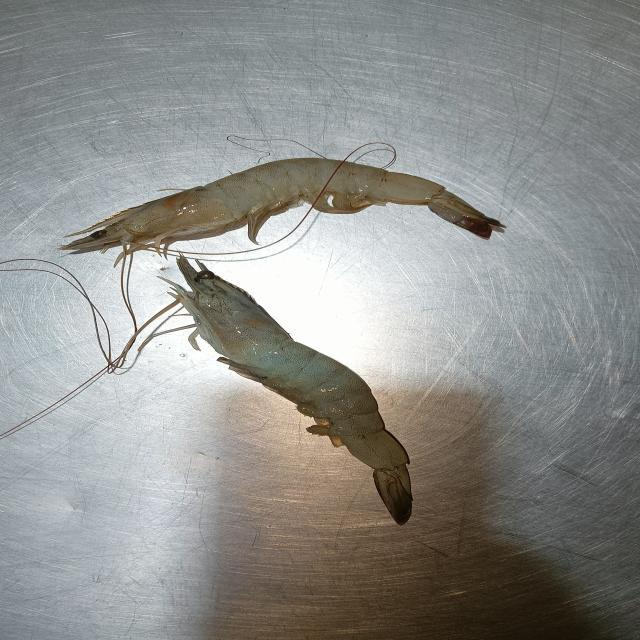shrimp: (166, 256, 412, 525), (62, 159, 502, 252)
